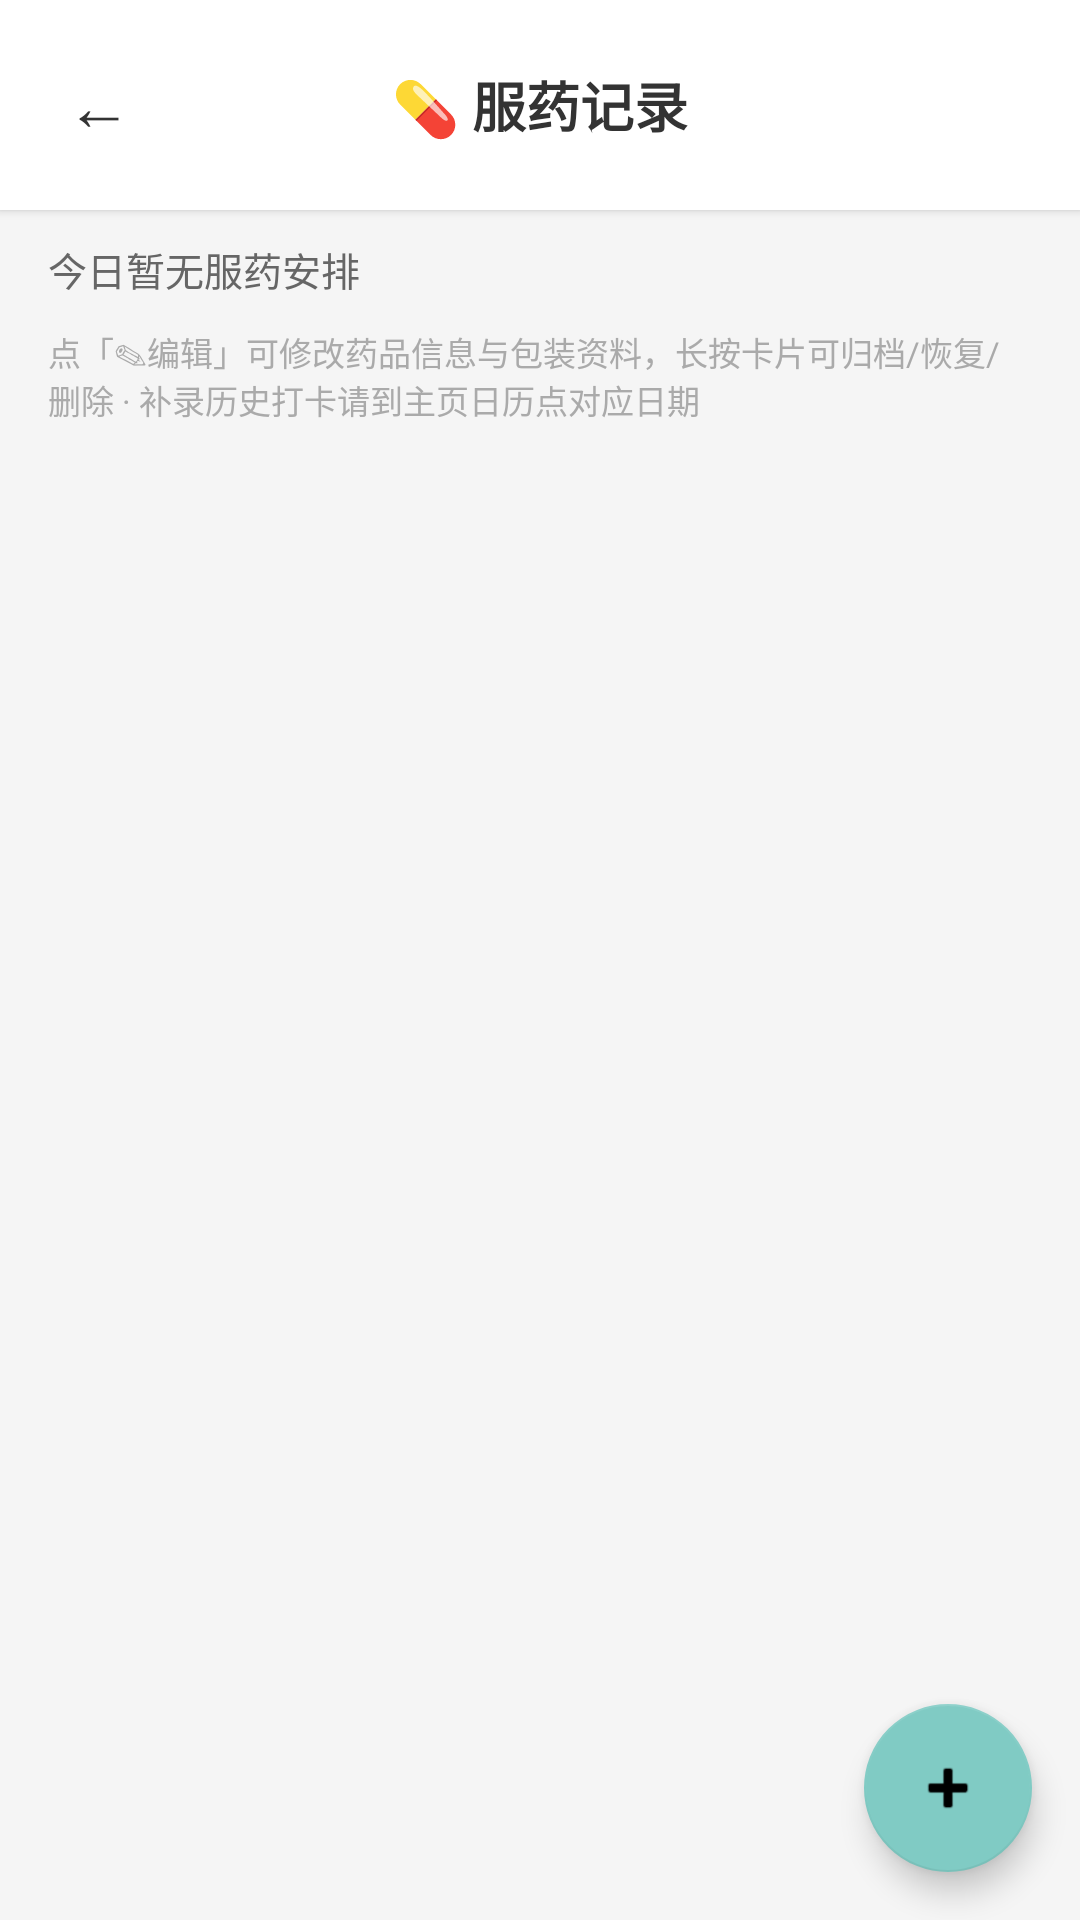

Screen size 1080w x 1920h. Icon name, then its box in pixels as (x1, y1, x2, y2):
添加药品: (864, 1704, 1032, 1872)
